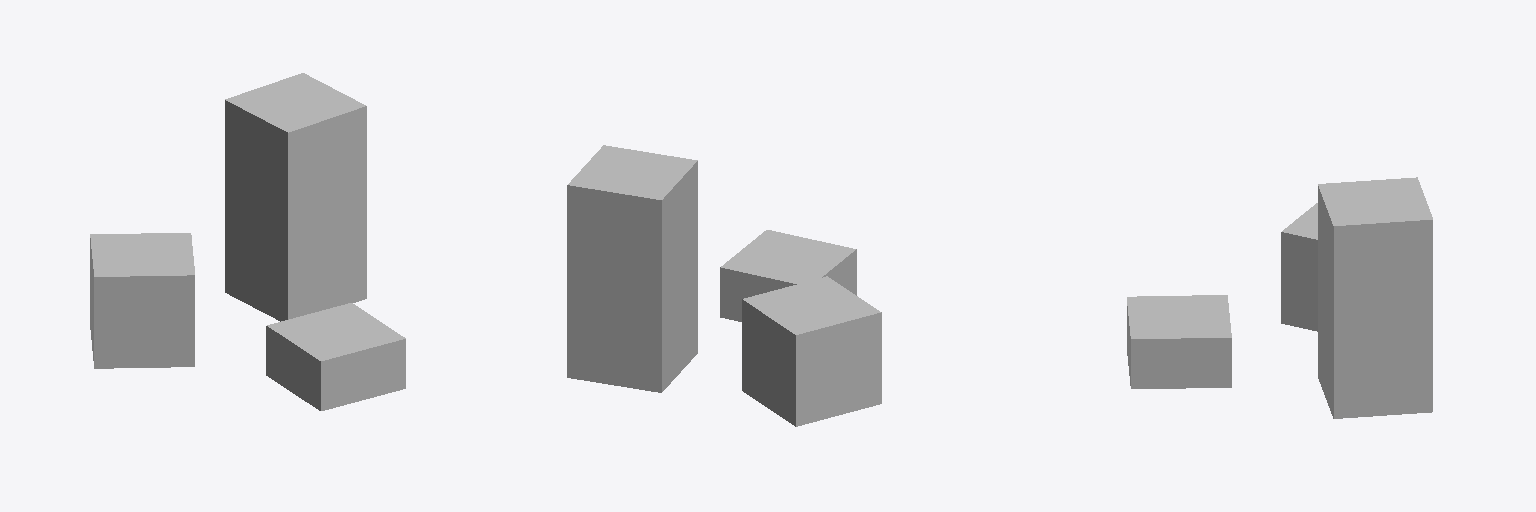
The model's file is cubes.obj.
The picture shows the model from 3 angles: view 1: azimuth 30°, elevation 25°; view 2: azimuth 150°, elevation 25°; view 3: azimuth 270°, elevation 25°; orthographic projection.
Visible parts, largest first — view 1: pCube2, pCube1, pCube3; view 2: pCube2, pCube1, pCube3; view 3: pCube2, pCube3, pCube1.
Part boxes in pixels (bbox=[...]): pCube2: bbox=[225, 73, 366, 321]; pCube1: bbox=[90, 233, 194, 368]; pCube3: bbox=[266, 303, 405, 410]; pCube2: bbox=[567, 145, 697, 392]; pCube1: bbox=[742, 276, 881, 426]; pCube3: bbox=[720, 230, 856, 321]; pCube2: bbox=[1318, 177, 1432, 418]; pCube3: bbox=[1127, 295, 1231, 388]; pCube1: bbox=[1281, 203, 1317, 331].
Size of the model in its own units: 9.03 by 6.07 by 8.72.